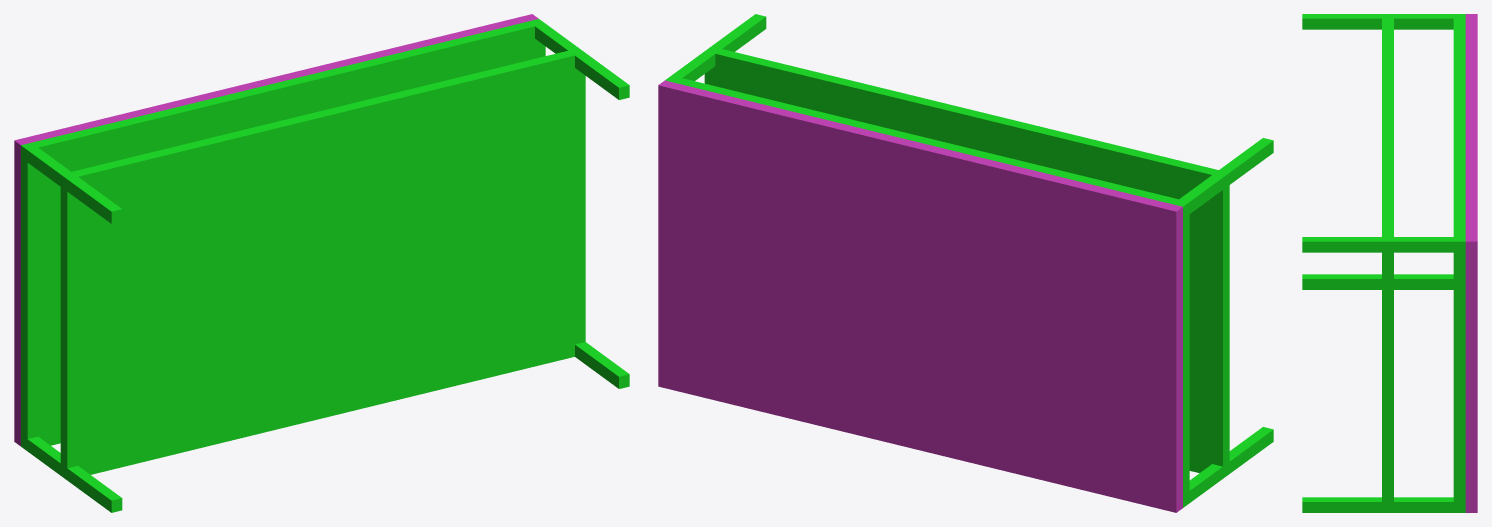
The model's file is coffee_table_1.FBX.
The picture shows the model from 3 angles, left to right: view 1: azimuth 30°, elevation 25°; view 2: azimuth 150°, elevation 25°; view 3: azimuth 270°, elevation 25°; orthographic projection. The views are drawn at different scales.
Visible parts, largest first — view 1: metal.002; view 2: metal.002; view 3: metal.002.
Part boxes in pixels (x1,y1,x2,y2): metal.002: (14,14,629,512); metal.002: (658,14,1273,512); metal.002: (1302,14,1477,512).
Bounding box in the file's own units: 90.02 × 50.01 × 29.3.
